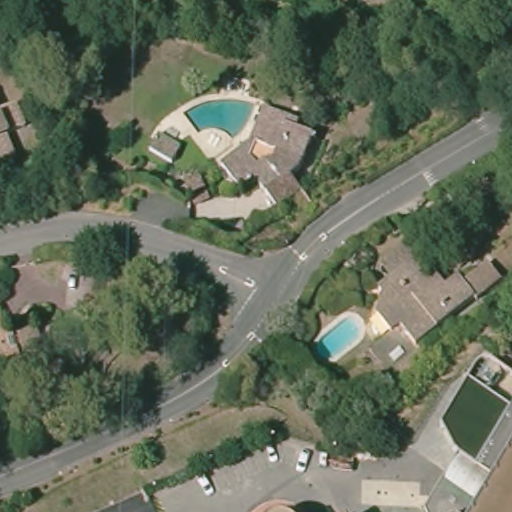pool: (178, 95, 259, 139), (307, 315, 366, 366)
